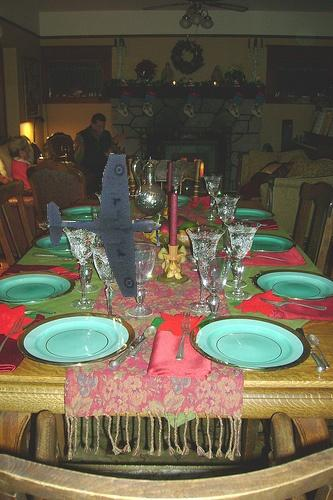tampered: (46, 154, 161, 297)
